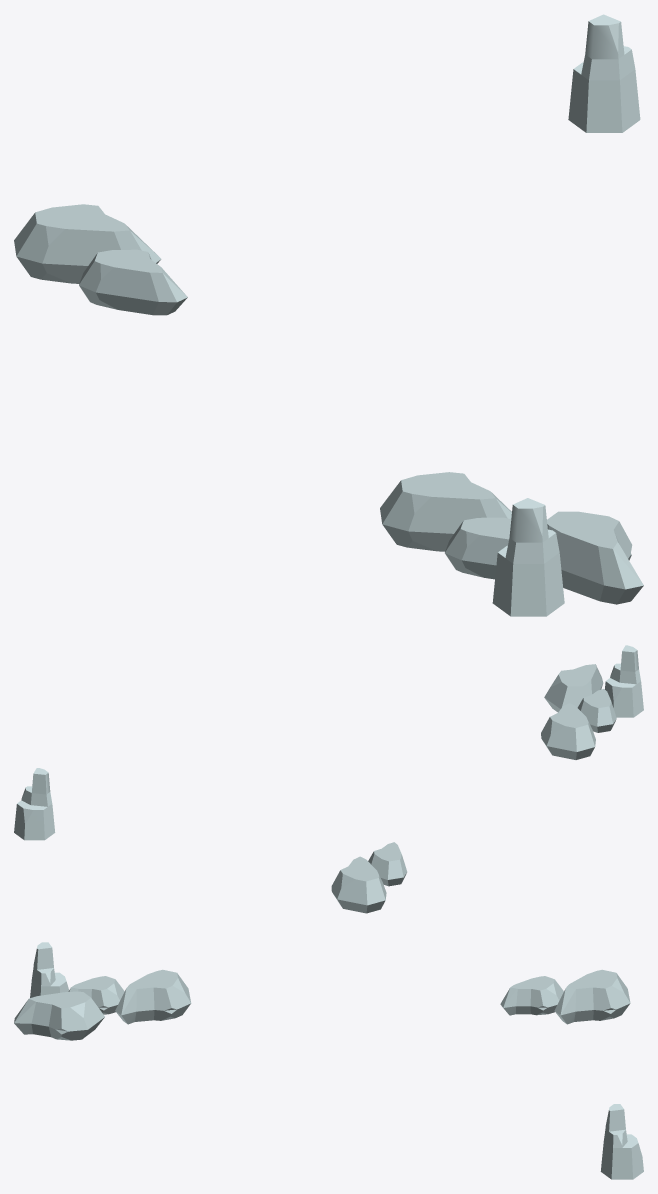
The model's file is rock.glb.
The picture shows the model from 3 angles, top to bottom: view 1: azimuth 30°, elevation 25°; view 2: azimuth 150°, elevation 25°; view 3: azimuth 270°, elevation 25°; orthographic projection. The views are drawn at different scales.
Visible parts, largest first — view 1: stone_largeB.001; view 2: stone_largeB.001; view 3: stone_largeB.001.
Boxes of the visible parts, x1,y1,x2,y2 form: stone_largeB.001: (14,14,643,616); stone_largeB.001: (14,645,643,913); stone_largeB.001: (14,942,643,1179).
Size of the model in its own units: 7.92 by 1.28 by 11.47.
